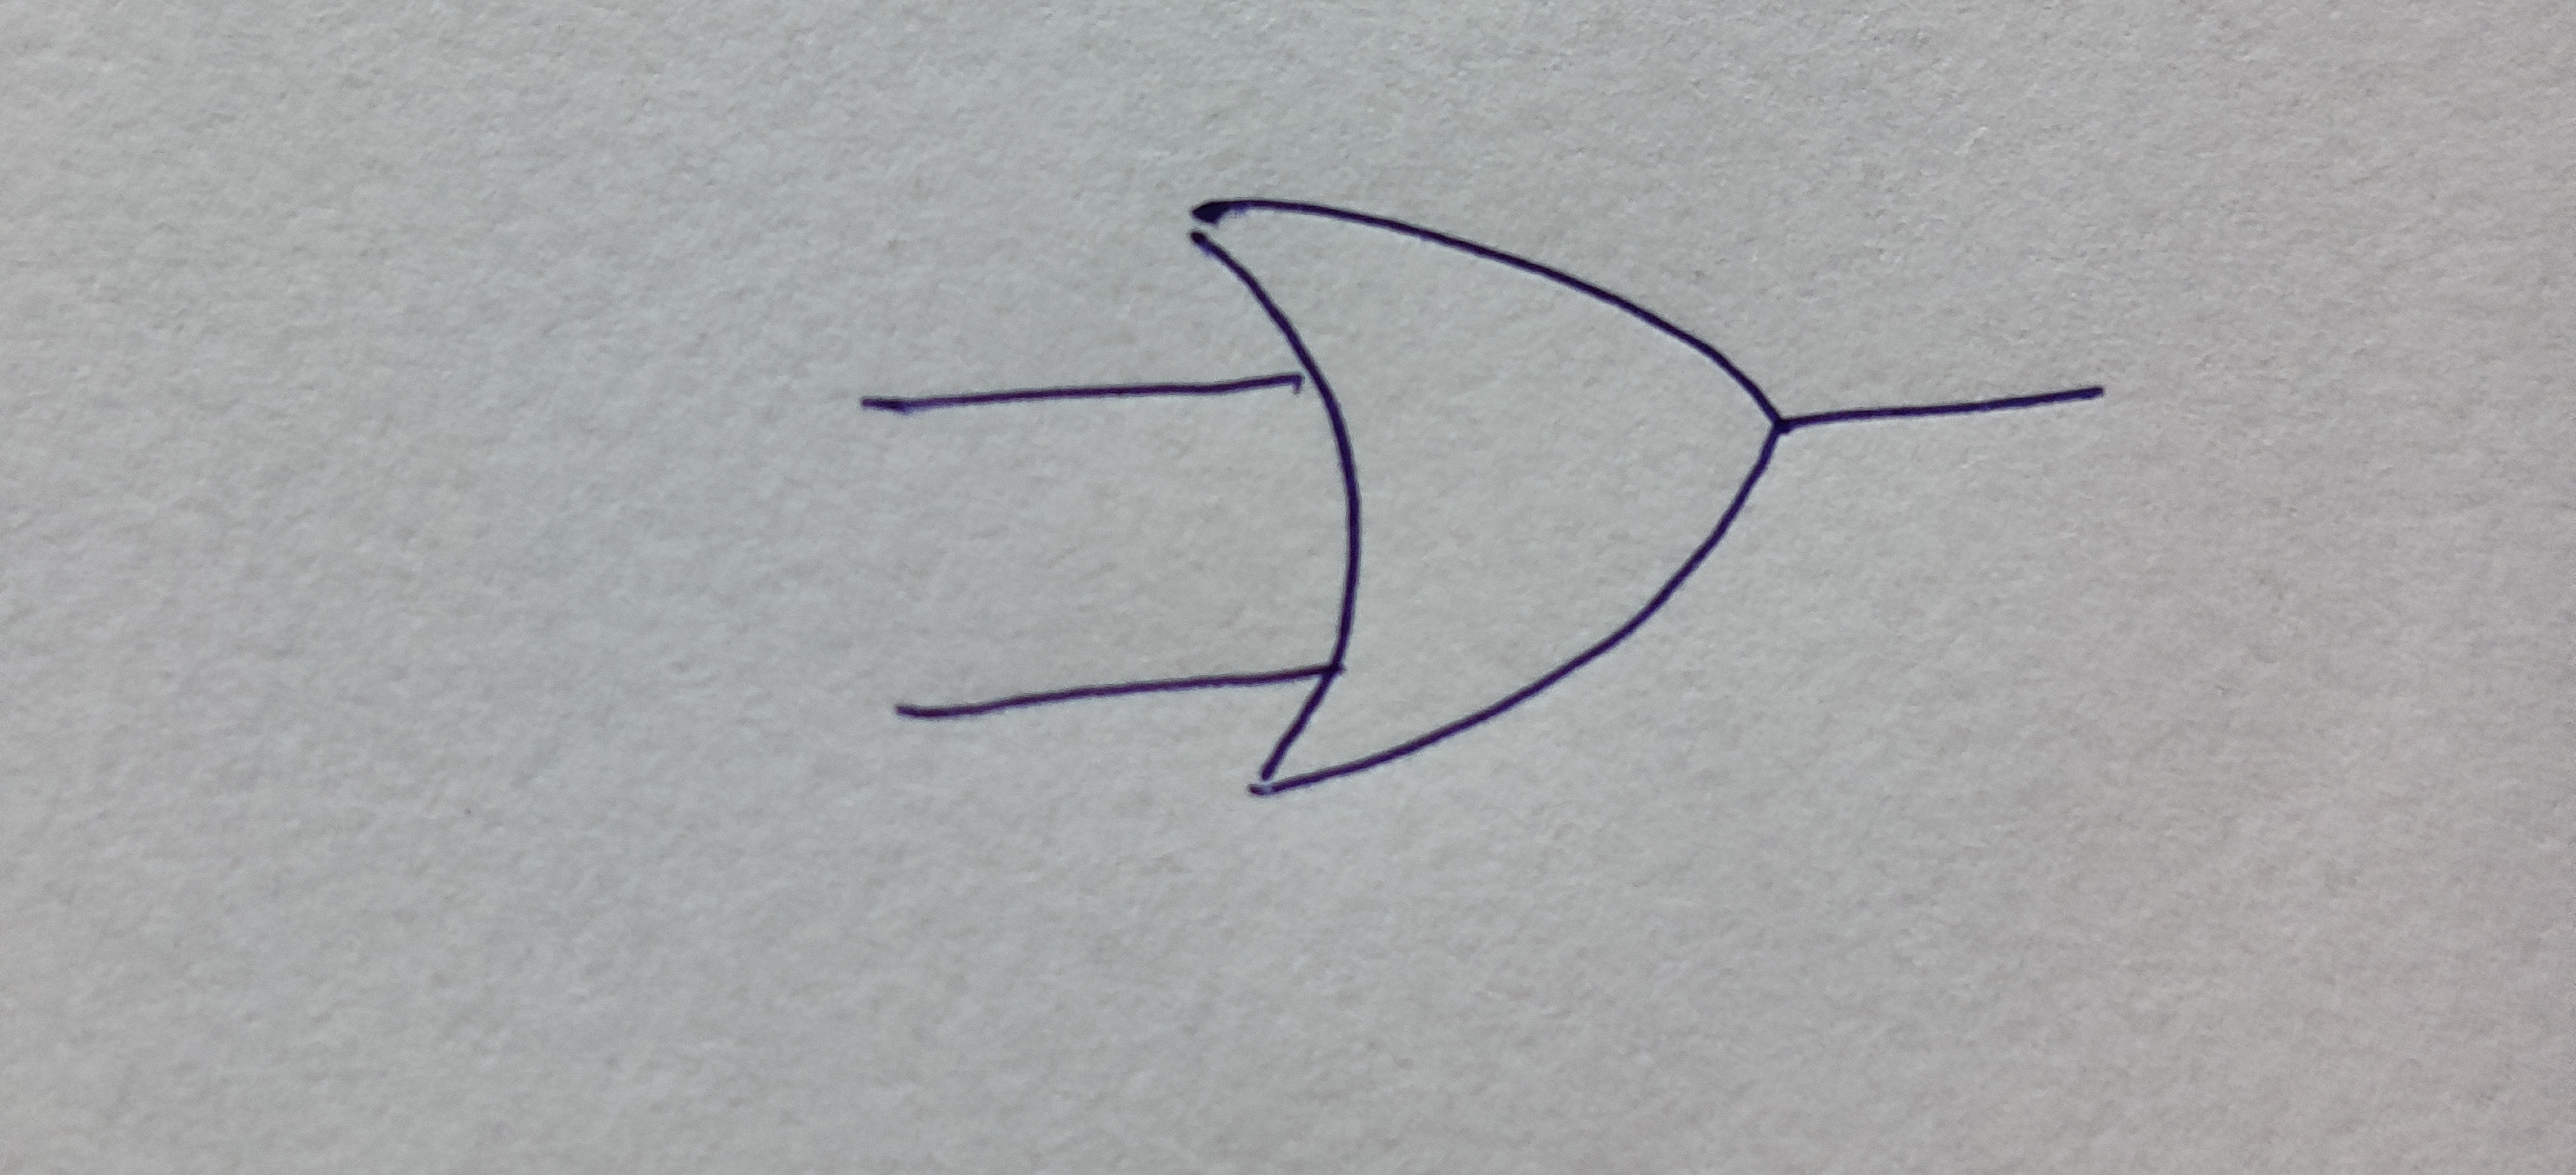or: (1186, 196, 1782, 795)
